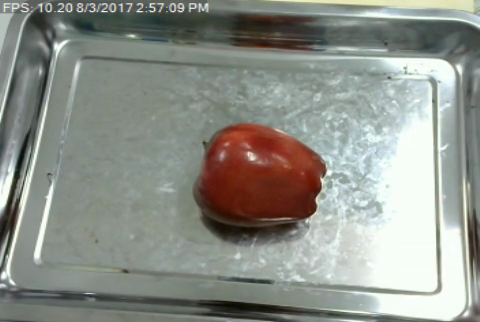Apple: (187, 120, 331, 232)
